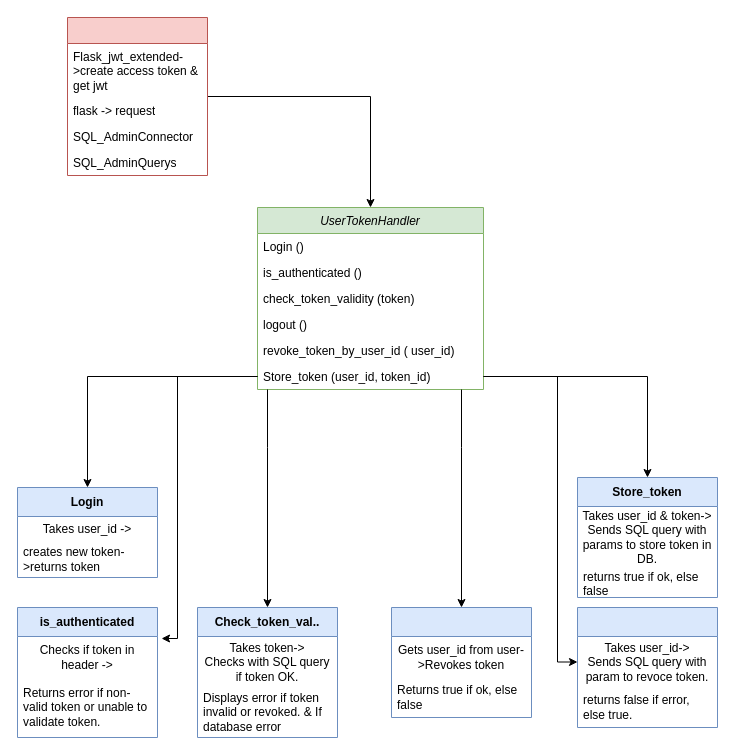
The diagram is 735 pixels wide and 755 high, and some of its shapes have lost their labels. Here are the shapes that lost their labels. From the top down, the box of each, then its label:
(66, 16, 208, 176): Imports
(390, 606, 532, 718): Logout
(576, 606, 718, 728): Revoke_token_by..
